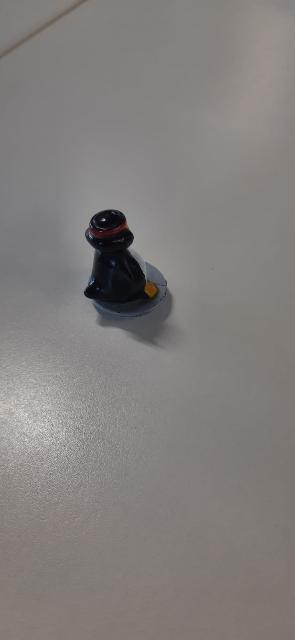Penguin: (76, 200, 173, 332)
